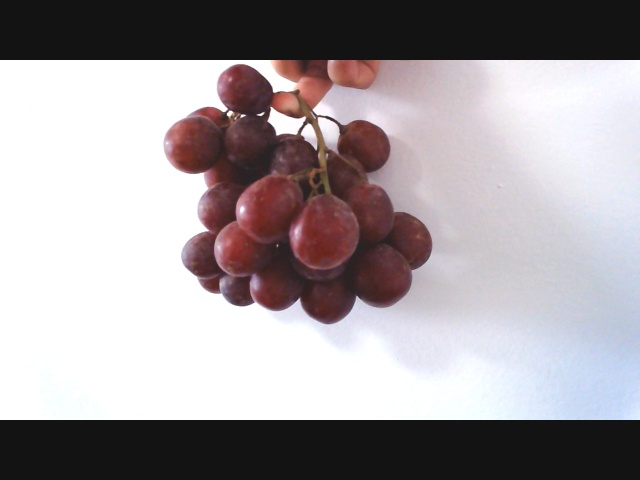grape: (142, 72, 434, 326)
